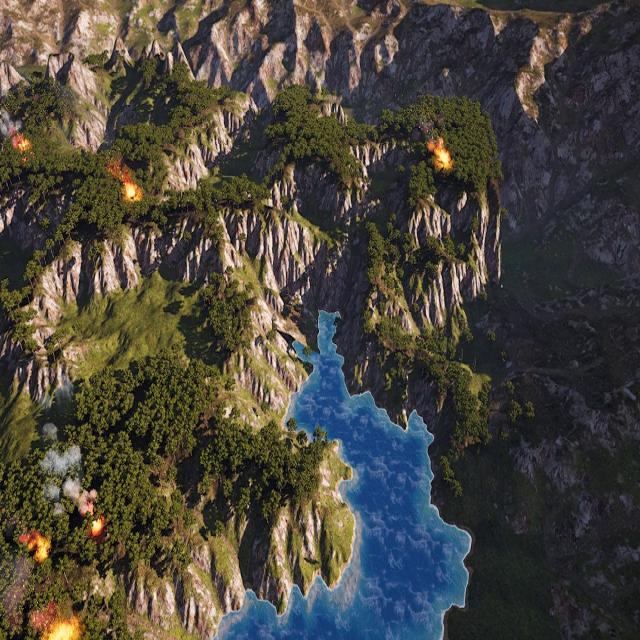fire: (24, 532, 50, 561), (428, 136, 450, 169), (49, 620, 79, 640), (12, 134, 29, 152), (34, 542, 48, 562), (124, 182, 140, 199), (91, 517, 105, 536)
smoke: (38, 416, 96, 516), (1, 109, 23, 149)
